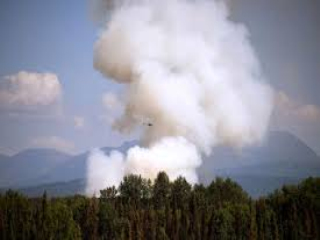smoke: (85, 6, 282, 190)
